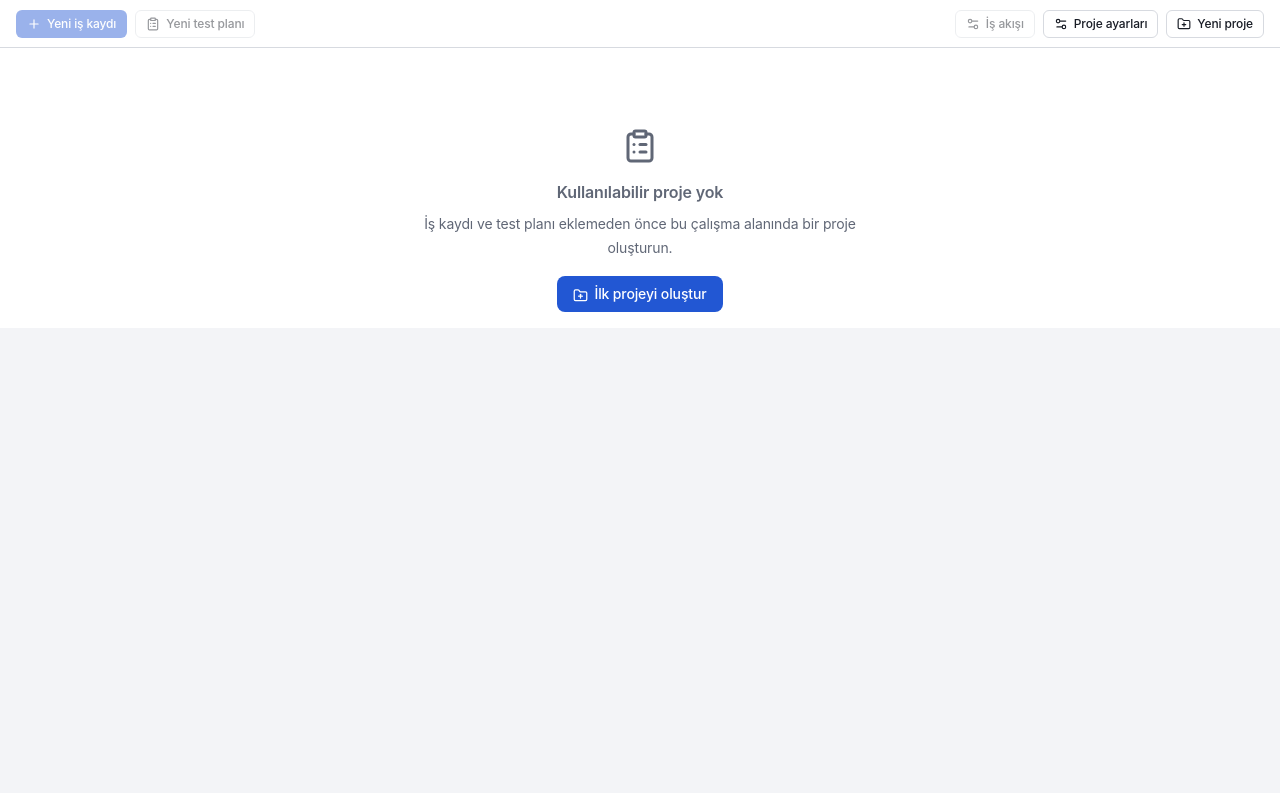
WorkManagementPage projects › creates the prerequisite project and selects it
Click the button with test id "empty-create-project" at (640,294), box [558, 276, 723, 312]
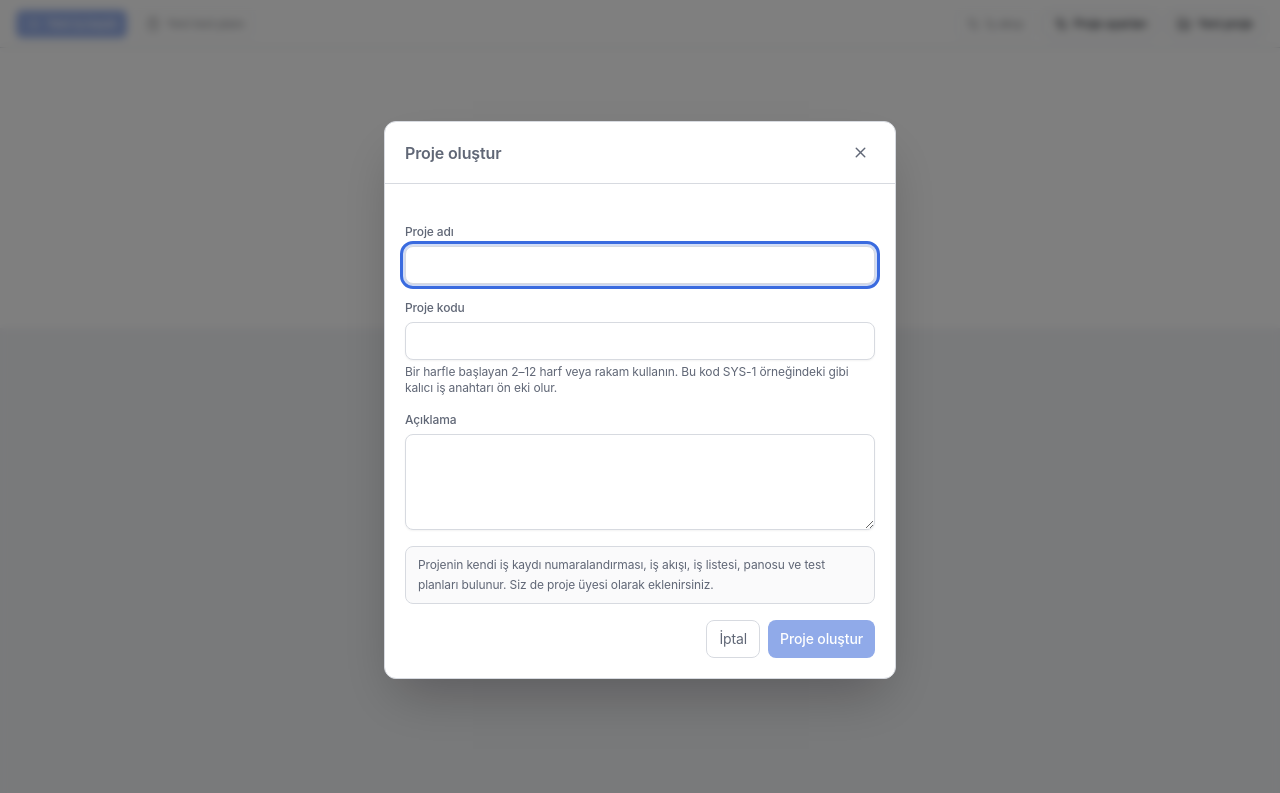
Type "System" into the field with test id "project-name" at (640,265), box [405, 246, 875, 284]
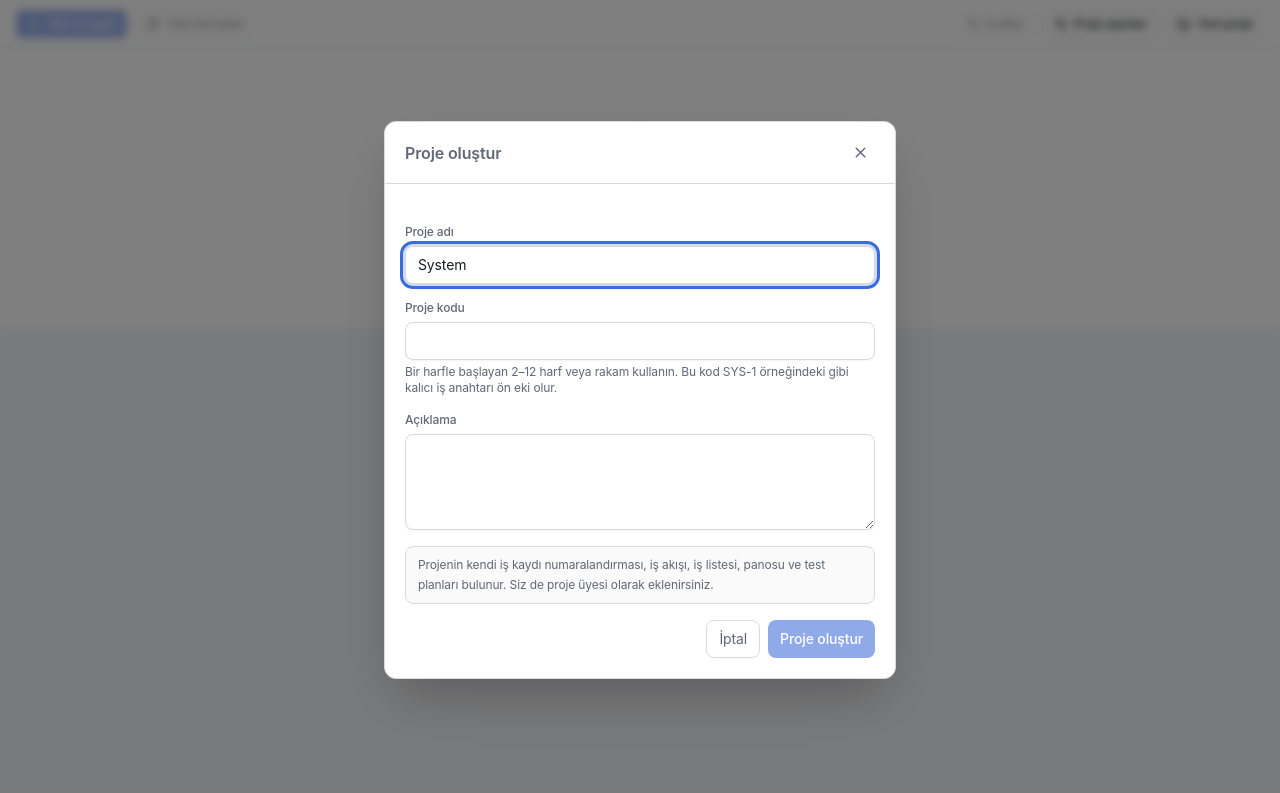
Type "sys" into the field with test id "project-code" at (640,341), box [405, 322, 875, 360]
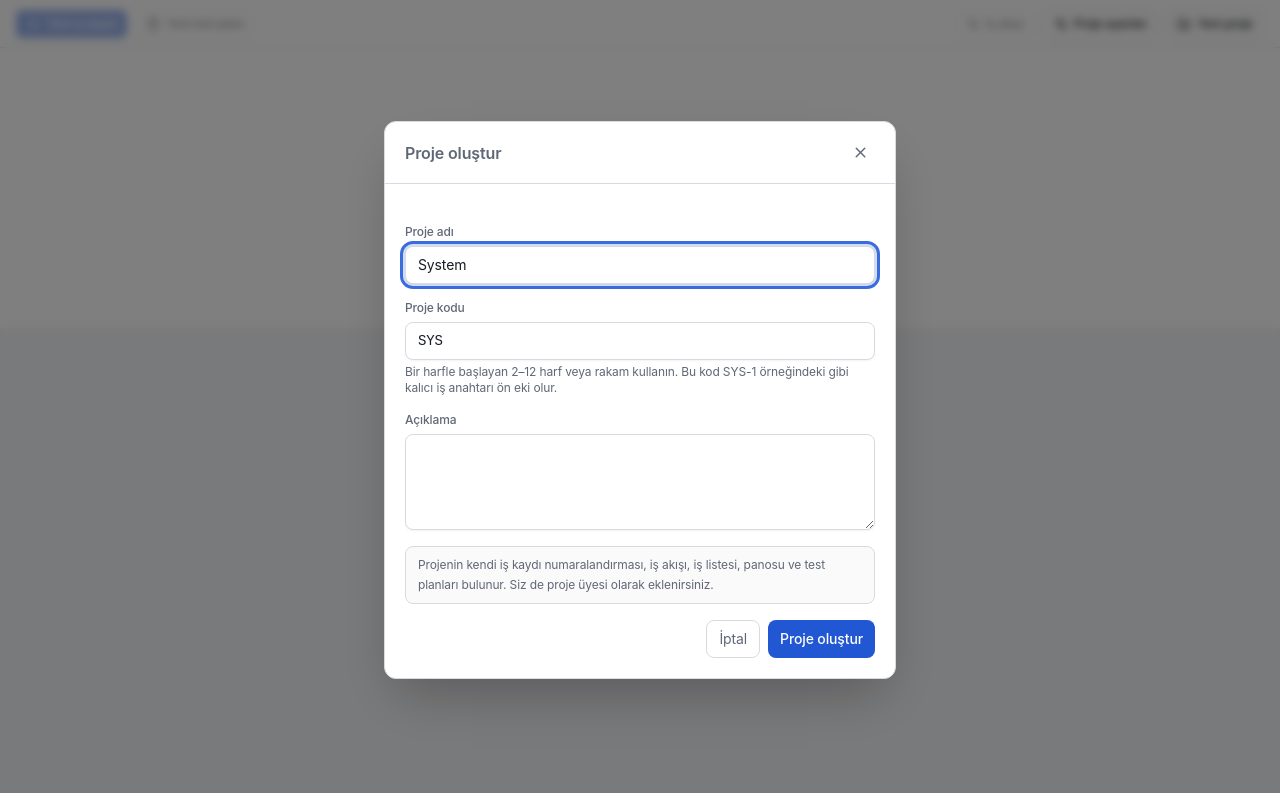
Click the button with test id "create-project" at (822,639), box [768, 620, 875, 658]
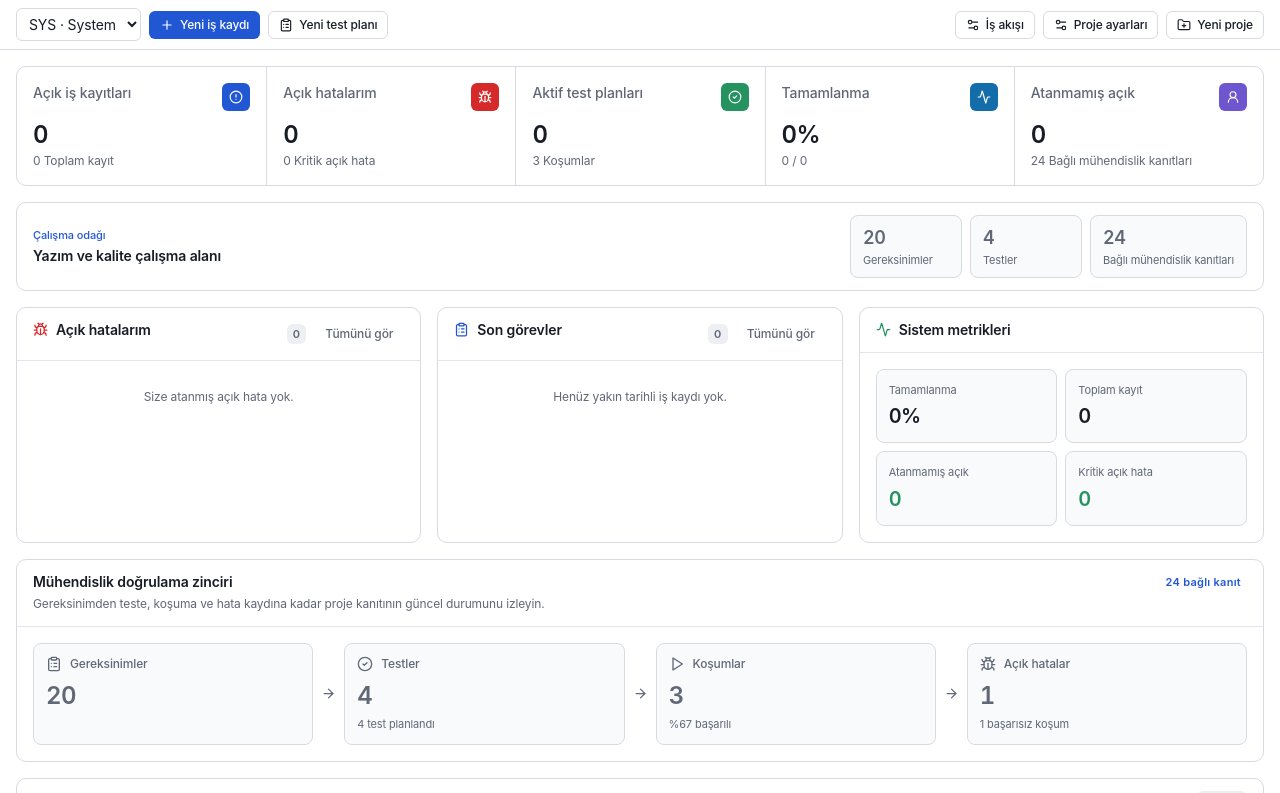
Now the dropdown with test id "project-selector" shows "SYS · System", box [16, 8, 141, 41]
Now the element with test id "engineering-lifecycle" shows "20", box [46, 680, 76, 710]
Now the element with test id "engineering-lifecycle" shows "%67", box [668, 716, 731, 730]
